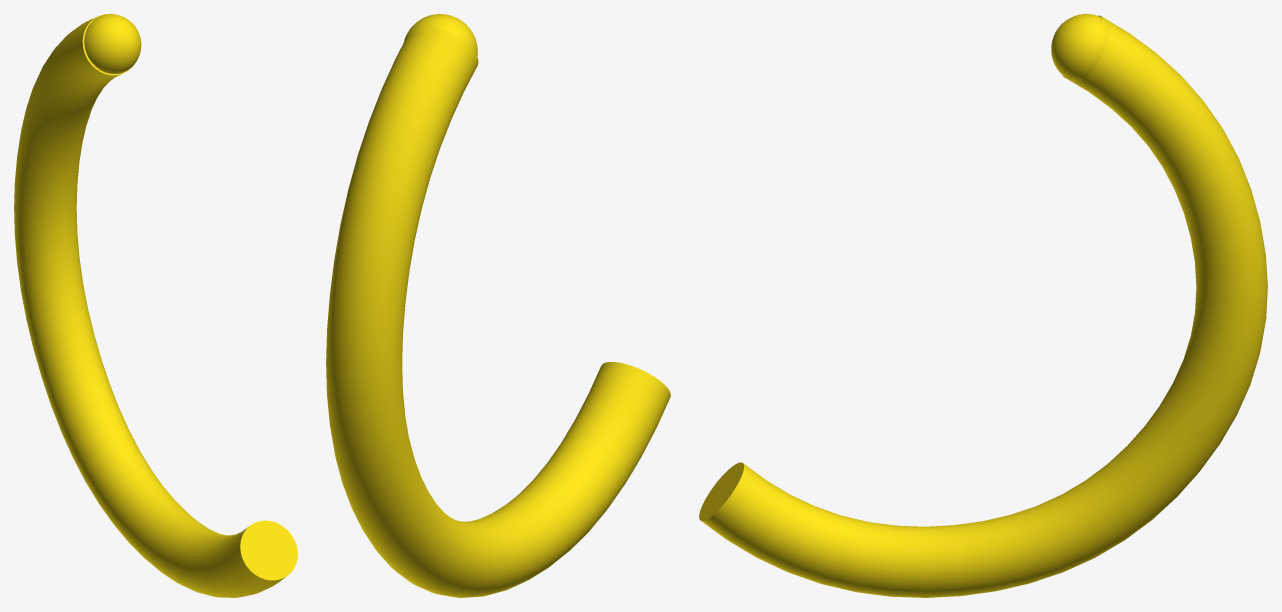
File: Cola_TC.obj
3 renders of one model, left to right at view 1: azimuth 30°, elevation 25°; view 2: azimuth 150°, elevation 25°; view 3: azimuth 270°, elevation 25°, orthographic. The views are drawn at different scales.
Visible parts, largest first — view 1: tail; view 2: tail; view 3: tail.
Part boxes in pixels (x1,y1,x2,y2): tail: (14, 14, 297, 597); tail: (326, 14, 670, 597); tail: (699, 14, 1267, 597).
Size of the model in its own units: 0.6409 by 5.63 by 5.02.
